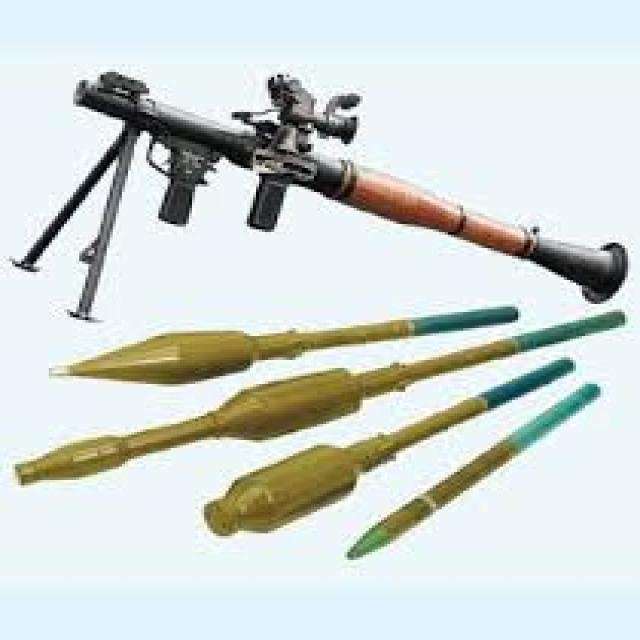bazooka: (7, 17, 640, 371)
